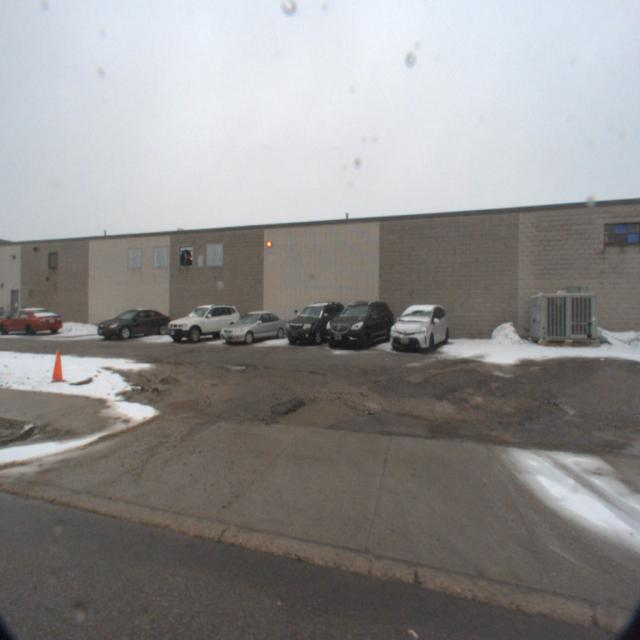Car: (318, 296, 394, 352), (158, 300, 244, 346), (278, 296, 350, 348), (382, 299, 450, 353), (212, 307, 290, 347), (86, 308, 172, 344)
